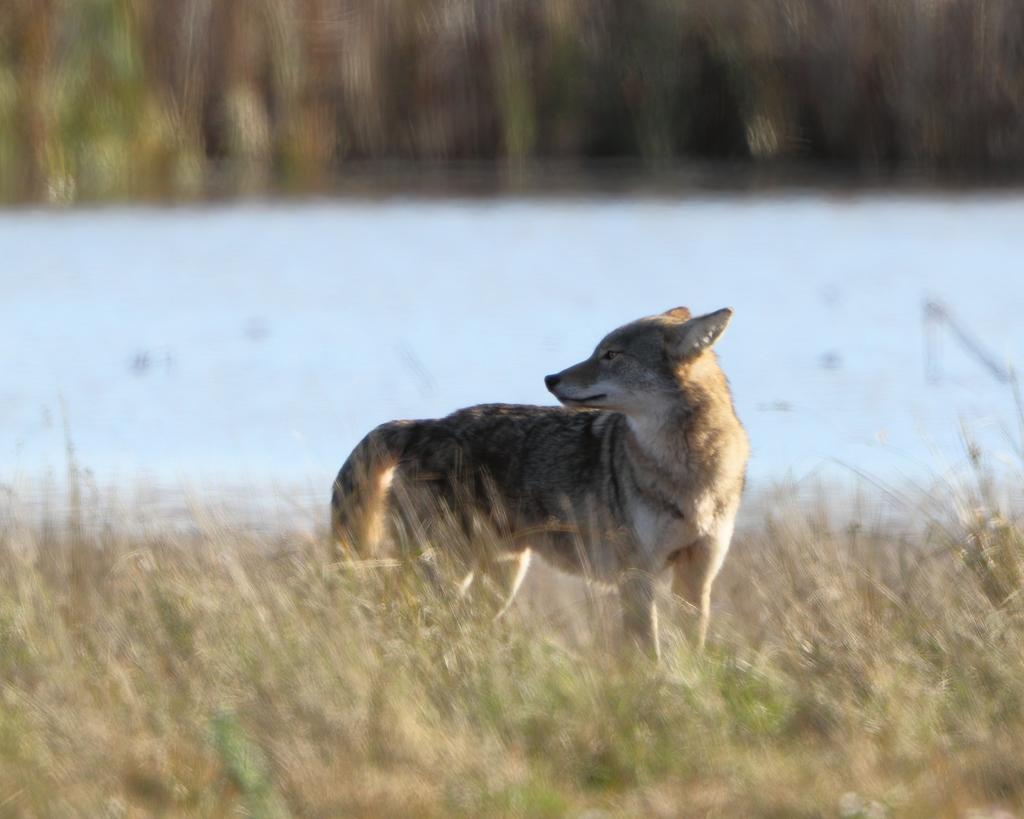Coyote: (330, 298, 752, 661)
